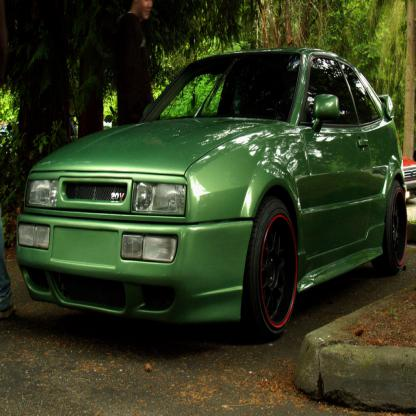Car: (17, 49, 408, 340)
